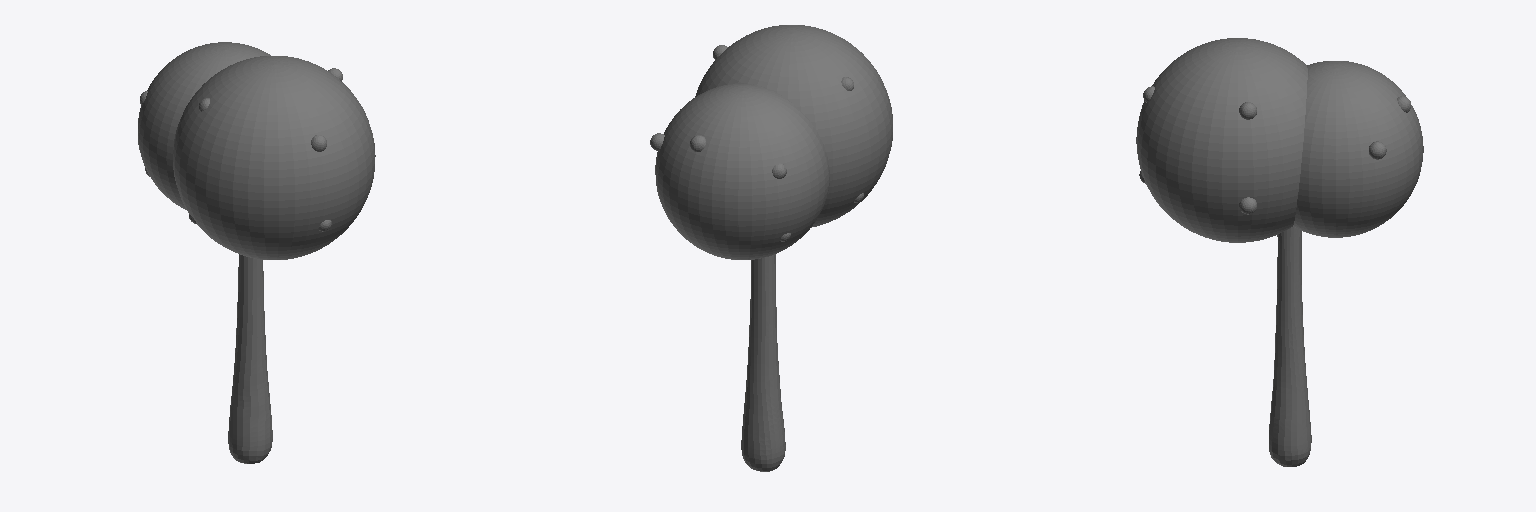
The model's file is High_Poly_With_Fruit.obj.
The picture shows the model from 3 angles: view 1: azimuth 30°, elevation 25°; view 2: azimuth 150°, elevation 25°; view 3: azimuth 270°, elevation 25°; orthographic projection.
Parts seen in each view (by area): view 1: pSphere11; view 2: pSphere11; view 3: pSphere11.
Boxes of the visible parts, x1=… form: pSphere11: x1=138, y1=42, x2=375, y2=463; pSphere11: x1=650, y1=25, x2=892, y2=471; pSphere11: x1=1136, y1=38, x2=1423, y2=466.
Size of the model in its own units: 1.3 by 2.84 by 1.78.